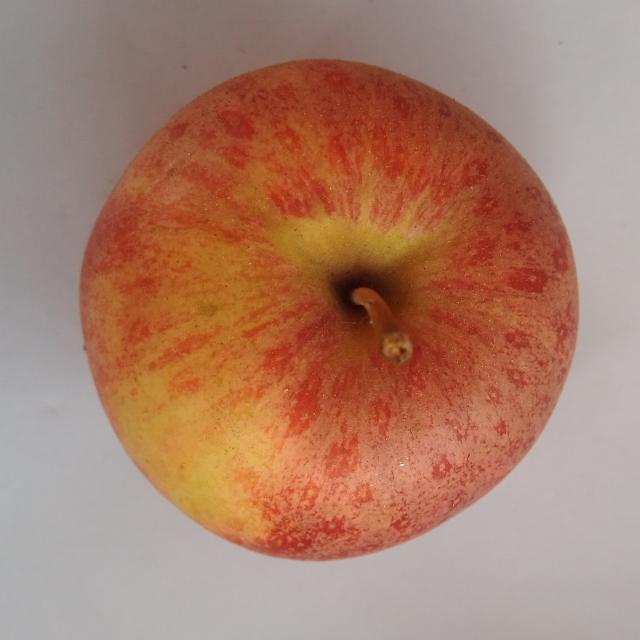apple: (80, 60, 578, 559)
